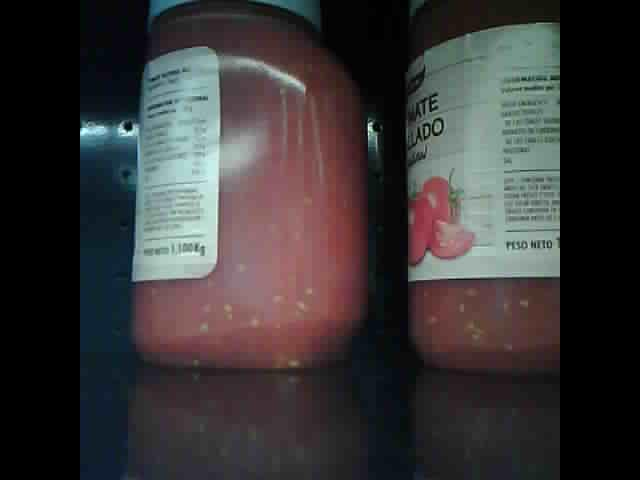tomate: (128, 3, 373, 369), (406, 8, 559, 373)
